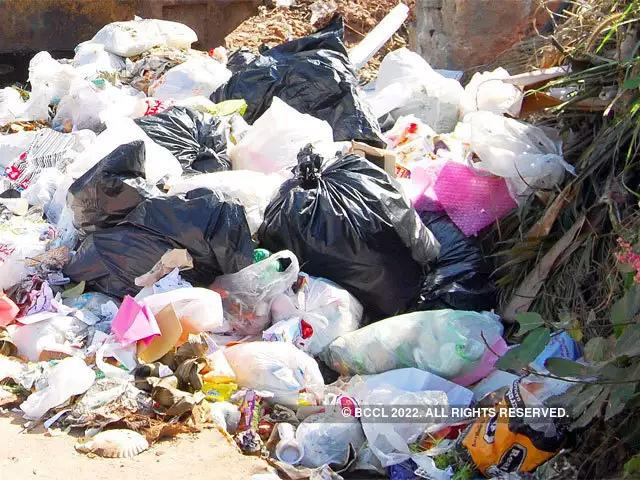garbage: (0, 15, 640, 480)
